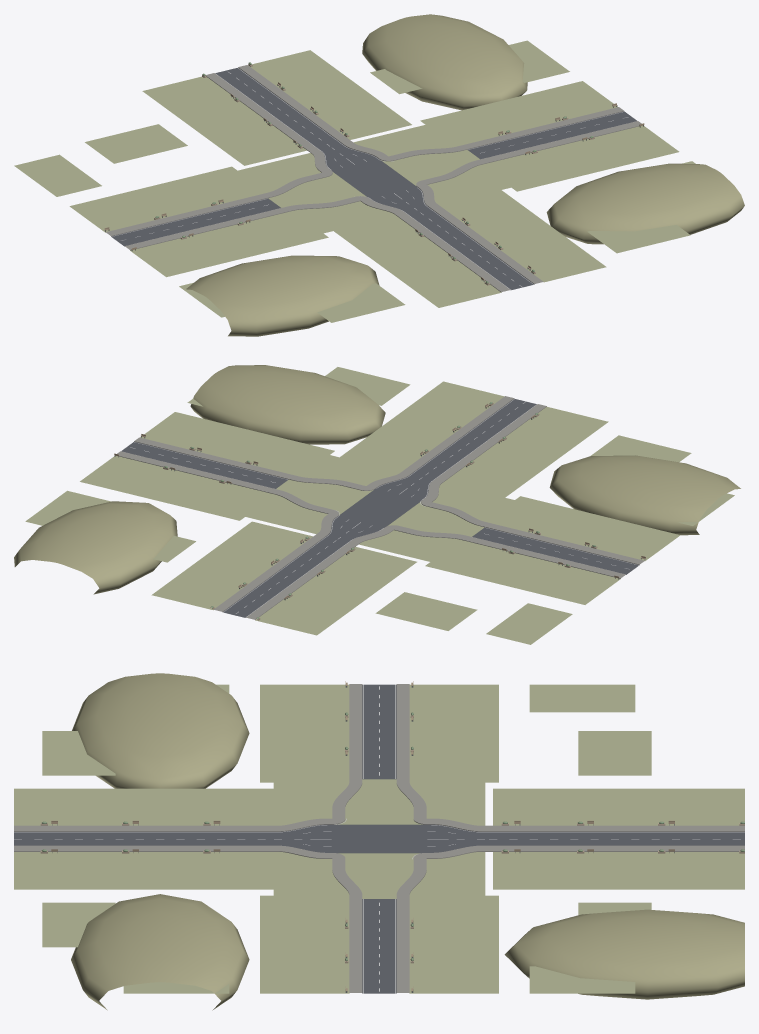
3 renders of one model, top to bottom at view 1: azimuth 30°, elevation 25°; view 2: azimuth 150°, elevation 25°; view 3: azimuth 270°, elevation 25°, orthographic. The views are drawn at different scales.
Visible parts, largest first — view 1: static; view 2: static; view 3: static.
Boxes of the visible parts, left/top/right/bottom form: static: left=14, top=14, right=744, bottom=336; static: left=14, top=365, right=740, bottom=644; static: left=14, top=673, right=744, bottom=1010.
Size of what is drawn, in the model's own units: 180 by 14.08 by 180.
